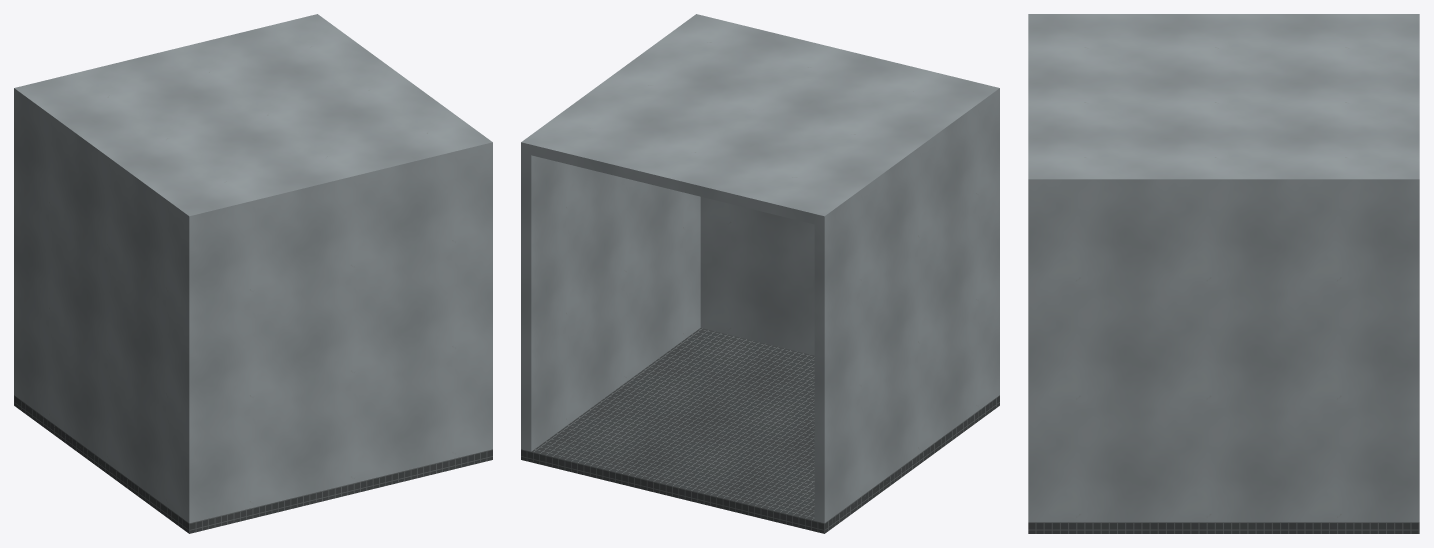
The model's file is lift_car.glb.
The picture shows the model from 3 angles, left to right: view 1: azimuth 30°, elevation 25°; view 2: azimuth 150°, elevation 25°; view 3: azimuth 270°, elevation 25°; orthographic projection. The views are drawn at different scales.
Visible parts, largest first — view 1: lift_car; view 2: lift_car; view 3: lift_car.
Boxes of the visible parts, x1,y1,x2,y2 form: lift_car: [14, 14, 492, 533]; lift_car: [521, 14, 999, 533]; lift_car: [1028, 14, 1419, 533].
Bounding box in the file's own units: 3 × 3 × 3.
Materials: 3 (2 with a texture image).
